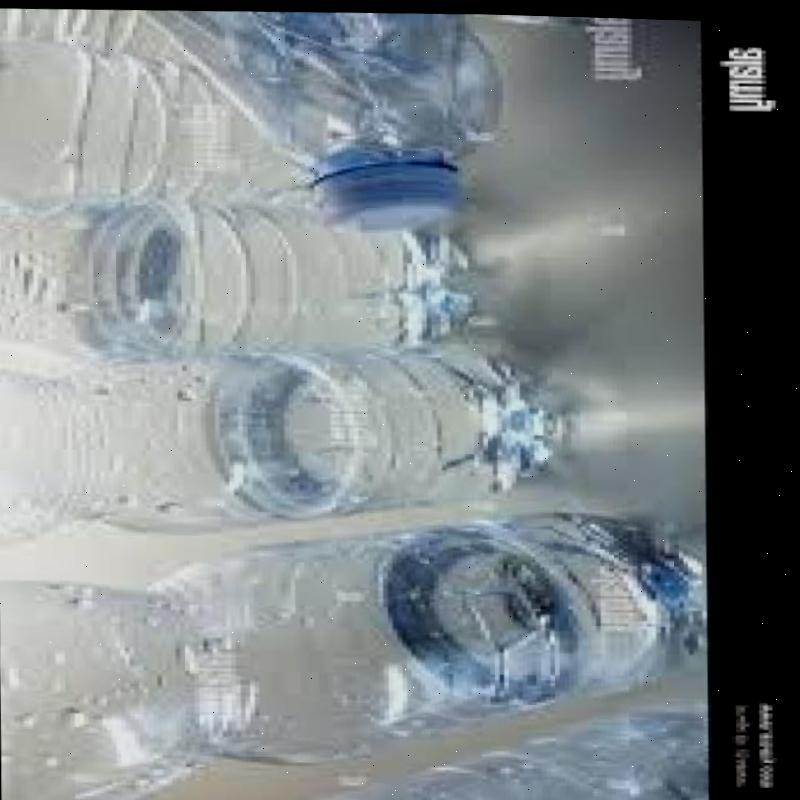botella: (0, 492, 711, 800), (0, 339, 564, 557), (135, 3, 506, 238), (0, 190, 488, 361), (0, 32, 320, 207), (291, 688, 710, 800), (0, 4, 170, 52)
